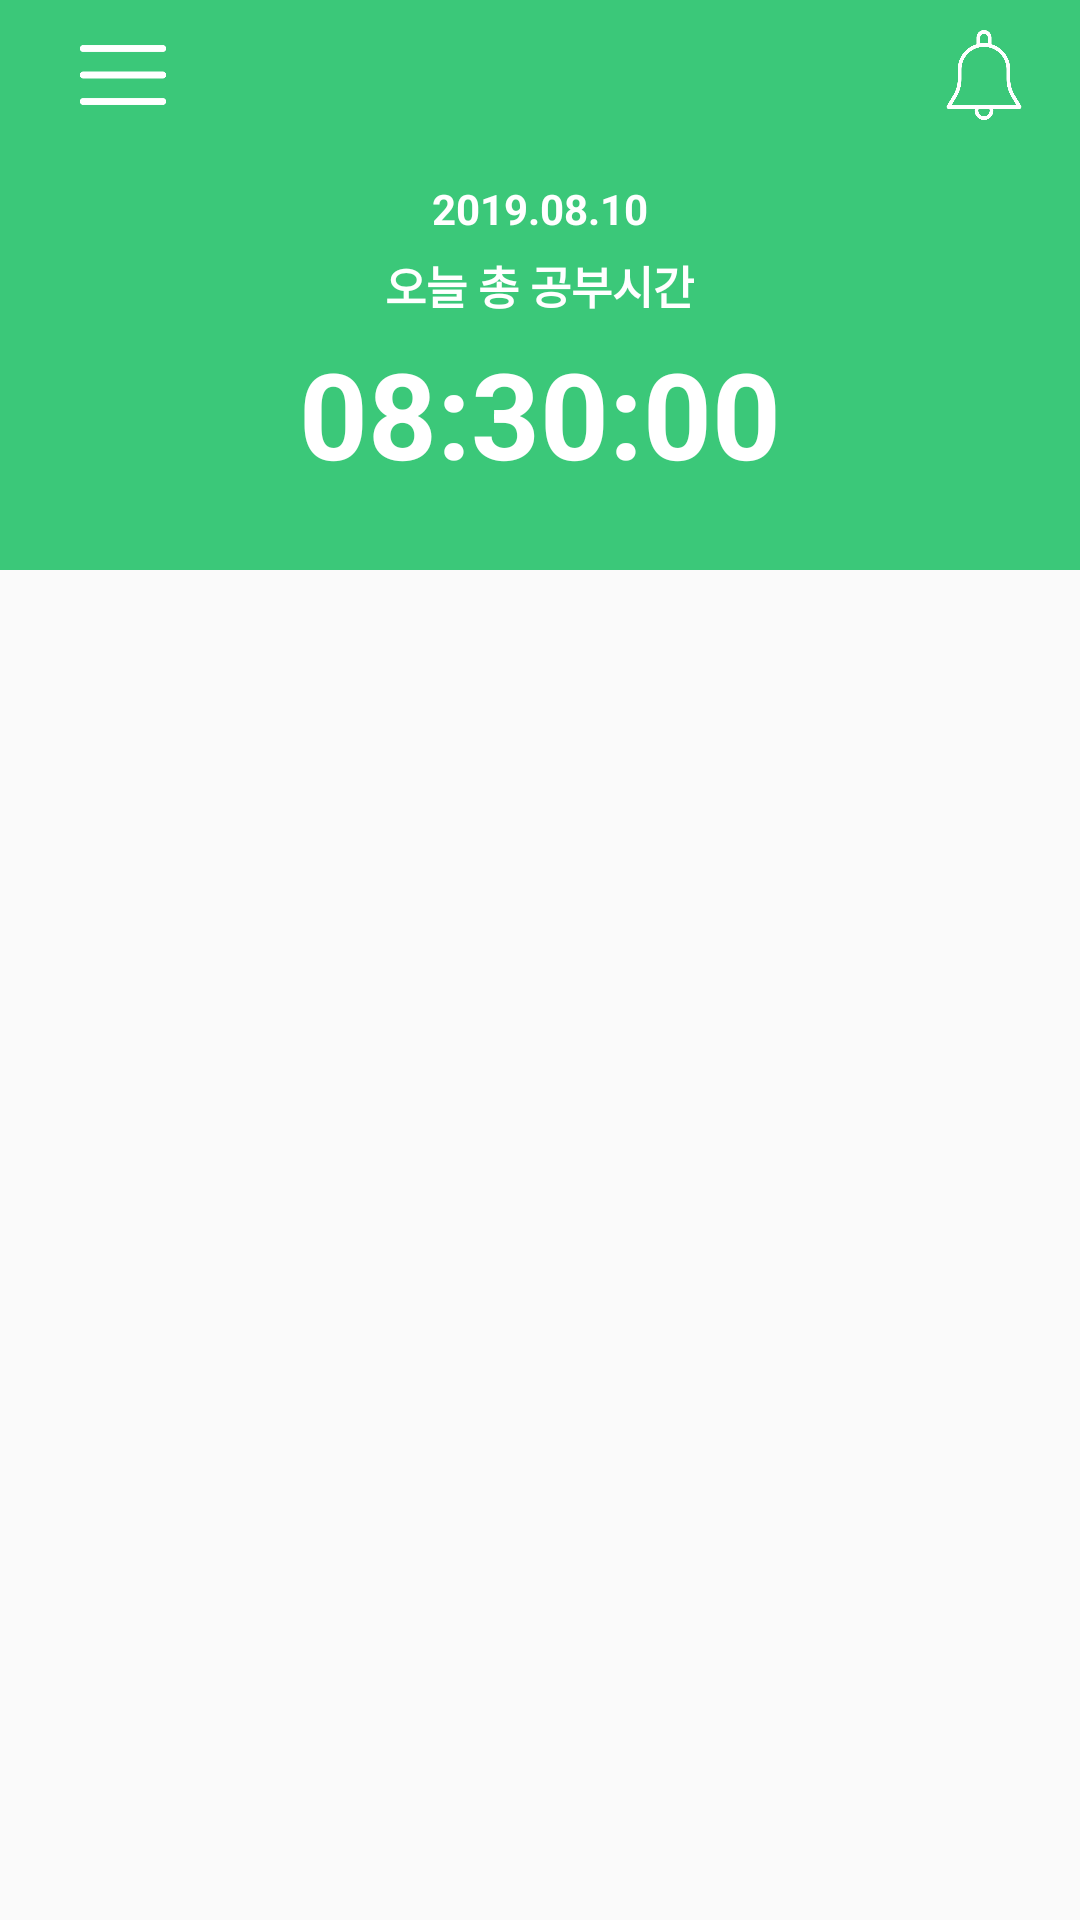

Icons on this 1080px x 1920px Android screen, each with its box as [x1,y1,x2,y2]:
menu: [80,45,166,105]
notification: [946,30,1022,120]
